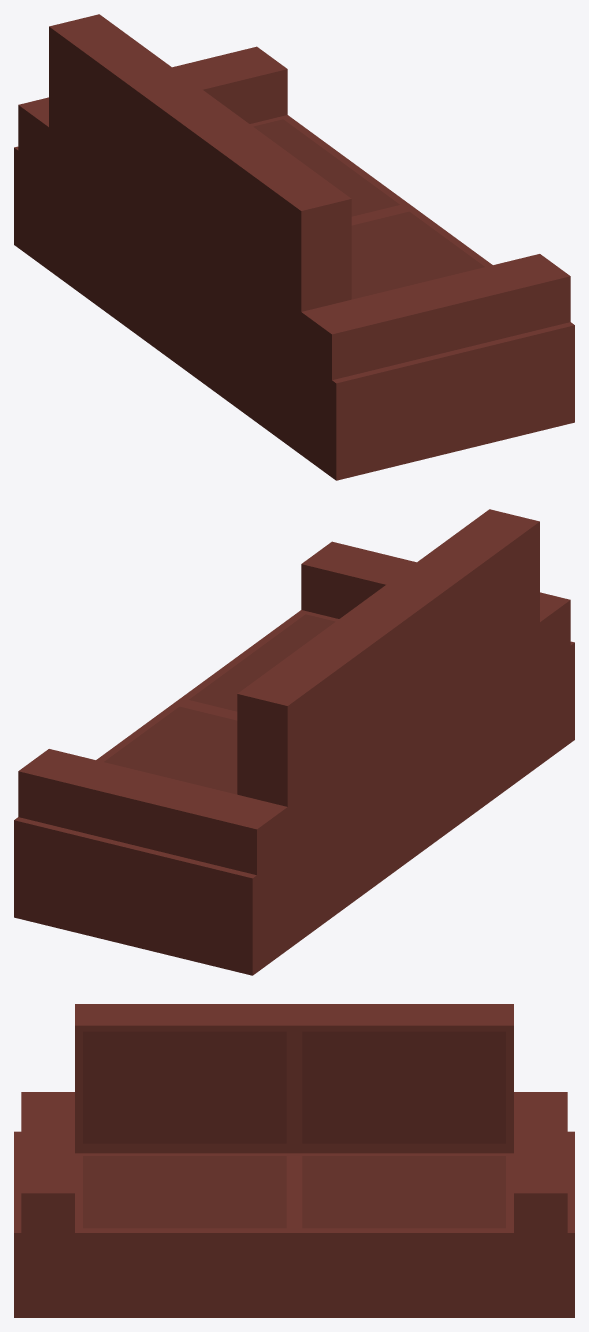
The model's file is couch.fbx.
The picture shows the model from 3 angles, top to bottom: view 1: azimuth 30°, elevation 25°; view 2: azimuth 150°, elevation 25°; view 3: azimuth 270°, elevation 25°; orthographic projection. The views are drawn at different scales.
Visible parts, largest first — view 1: couch; view 2: couch; view 3: couch.
Boxes of the visible parts, x1,y1,x2,y2 form: couch: (14,14,574,480); couch: (14,509,574,975); couch: (14,1004,574,1317).
Size of the model in its own units: 257 by 251 by 600.
